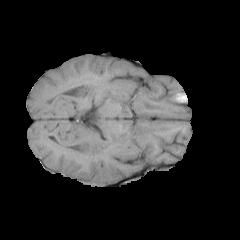glioma: (67, 129, 99, 160)
